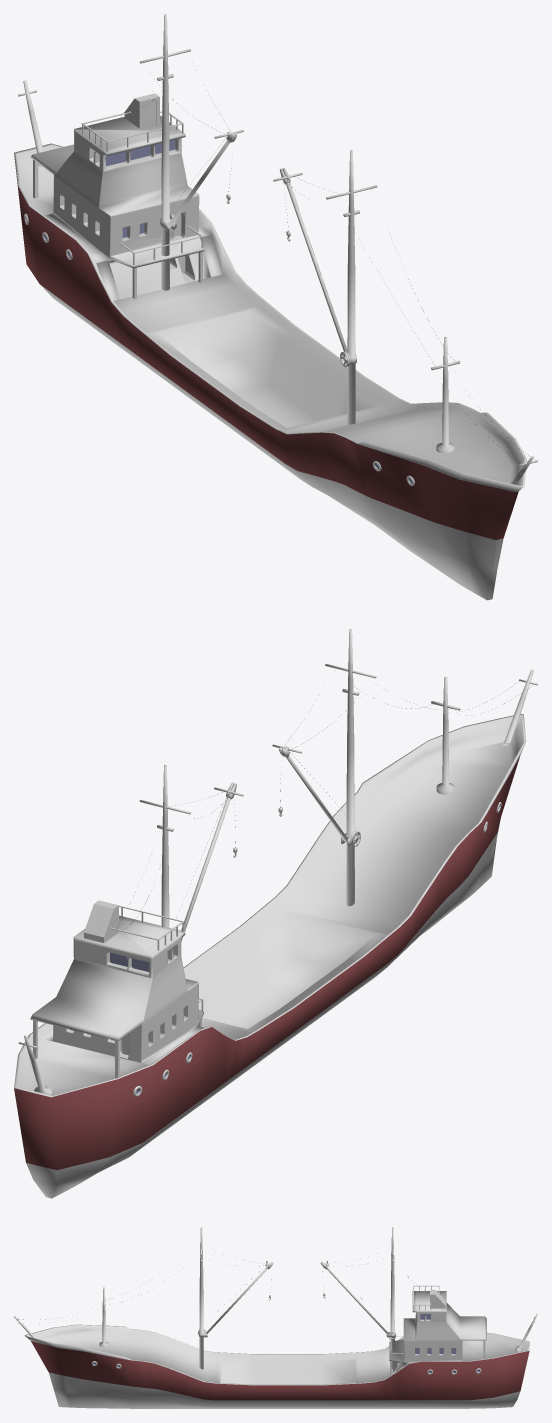
File: D3_Ship6.glb
The picture shows the model from 3 angles, top to bottom: view 1: azimuth 30°, elevation 25°; view 2: azimuth 150°, elevation 25°; view 3: azimuth 270°, elevation 25°; orthographic projection. The views are drawn at different scales.
Parts seen in each view (by area): view 1: Object_6, Object_2, Object_4; view 2: Object_6, Object_2; view 3: Object_6, Object_2.
Boxes of the visible parts, <box> form: Object_6: <box>14,14,537,600</box>; Object_2: <box>15,162,518,539</box>; Object_4: <box>26,139,412,483</box>; Object_6: <box>14,629,537,1198</box>; Object_2: <box>14,756,519,1170</box>; Object_6: <box>14,1227,537,1408</box>; Object_2: <box>31,1341,529,1400</box>.
Bounding box in the file's own units: 6.14 × 16.34 × 43.39.
